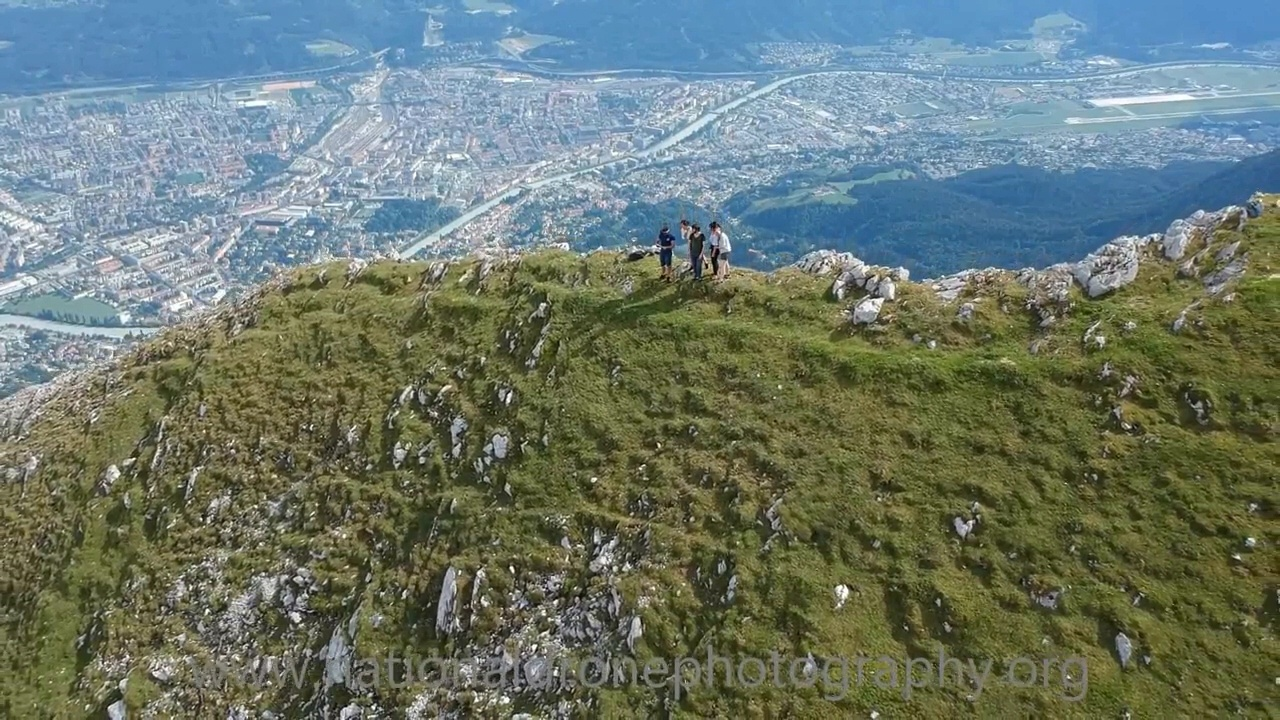insan: (684, 223, 707, 284), (656, 220, 677, 281), (715, 223, 734, 284), (706, 220, 723, 283)
